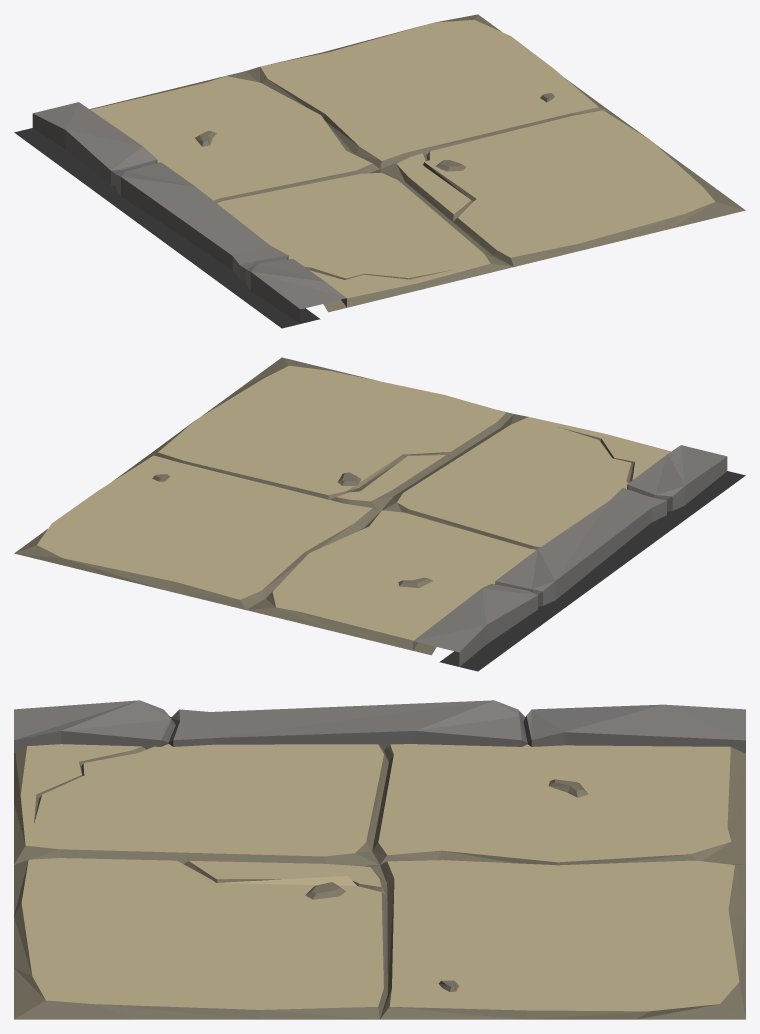
Rendered from Sidewalk_01.FBX.
The picture shows the model from 3 angles, top to bottom: view 1: azimuth 30°, elevation 25°; view 2: azimuth 150°, elevation 25°; view 3: azimuth 270°, elevation 25°; orthographic projection. The views are drawn at different scales.
Parts seen in each view (by area): view 1: Sidewalk_01; view 2: Sidewalk_01; view 3: Sidewalk_01.
Boxes of the visible parts, x1=… form: Sidewalk_01: x1=14, y1=14, x2=745, y2=328; Sidewalk_01: x1=14, y1=357, x2=745, y2=671; Sidewalk_01: x1=14, y1=700, x2=745, y2=1019.
Bounding box in the file's own units: 5 × 0.2001 × 5.
